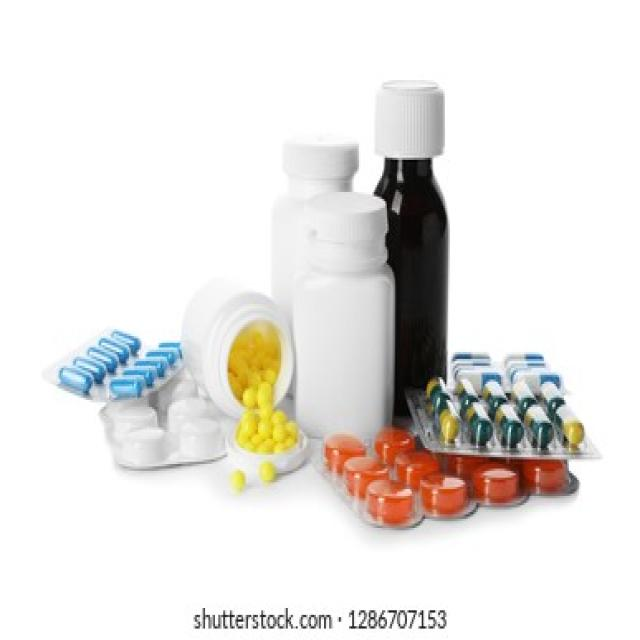B3: (361, 71, 463, 425), (301, 428, 589, 546), (391, 372, 624, 462), (94, 379, 232, 487), (45, 322, 190, 409)
